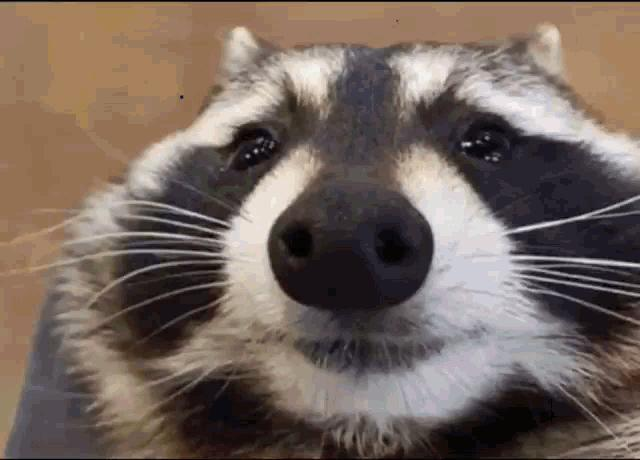raccoon: (50, 25, 640, 453)
